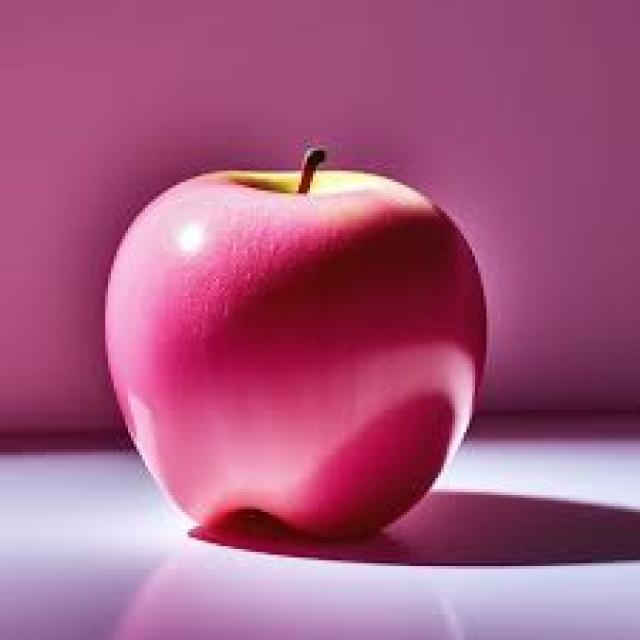agrume: (76, 121, 497, 601)
